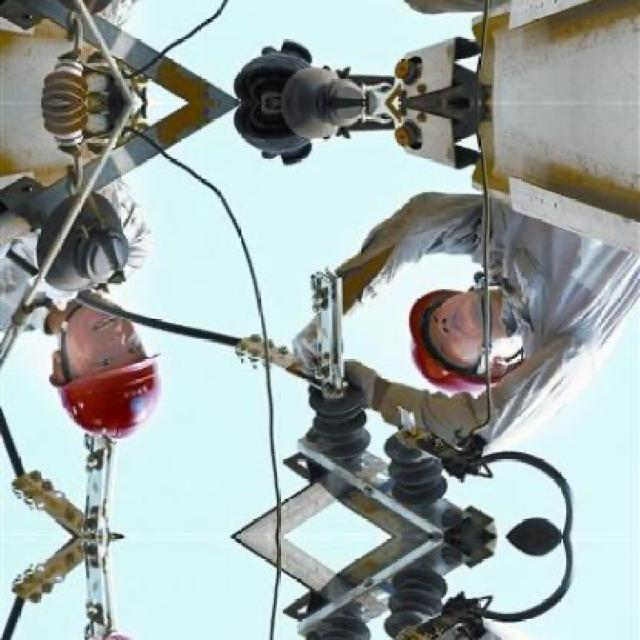con casco: (402, 297, 526, 424), (28, 316, 142, 445)
